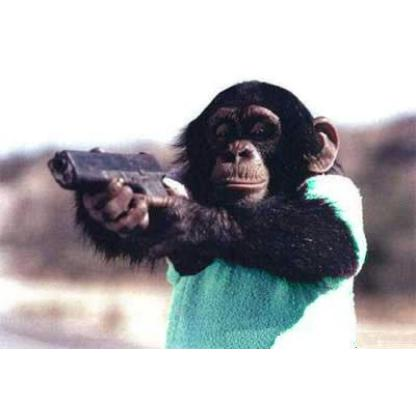gun: (47, 144, 212, 276)
